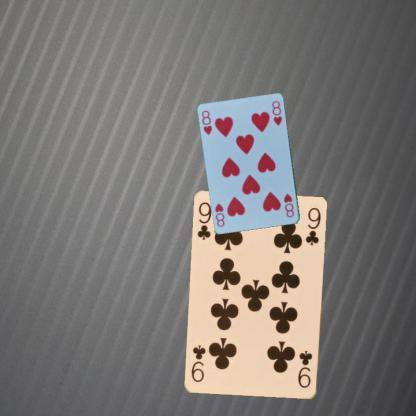8h: (282, 191, 296, 219), (200, 108, 214, 136)
9c: (195, 199, 213, 242), (296, 348, 314, 390)
